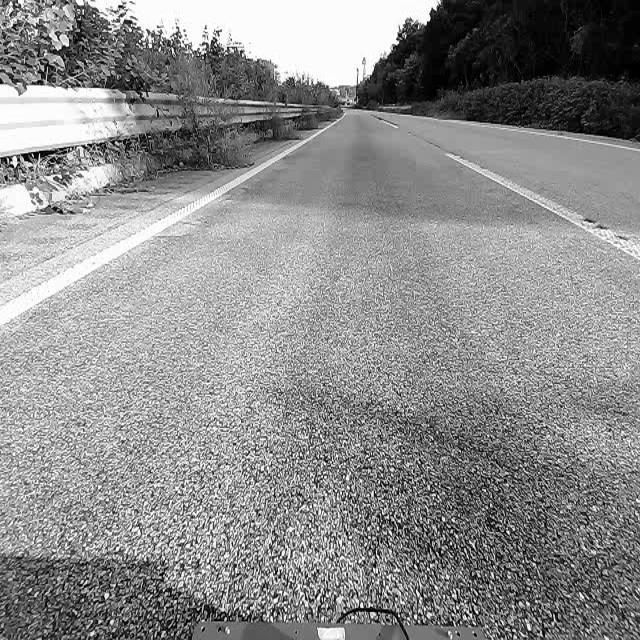Lane: (0, 115, 348, 333), (0, 120, 338, 333), (370, 90, 640, 267), (446, 152, 639, 260), (429, 118, 639, 151), (376, 118, 398, 128)
